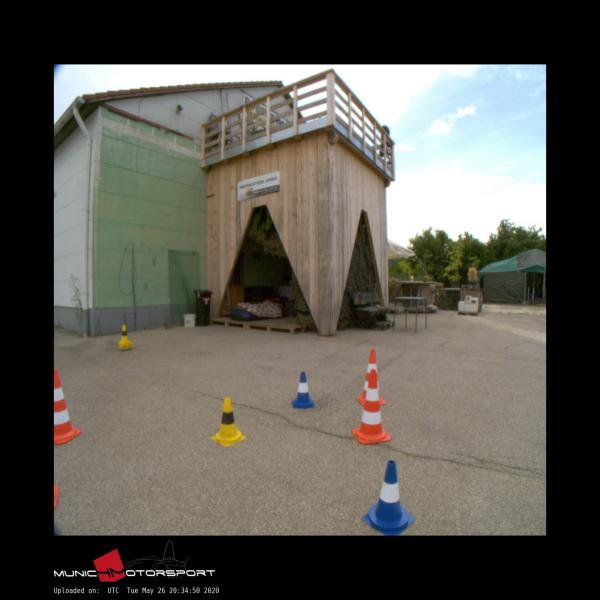blue_cone: (362, 460, 415, 535), (292, 372, 313, 408)
large_orange_cone: (352, 369, 390, 444), (54, 369, 81, 444), (356, 349, 386, 405)
yellow_cone: (211, 397, 245, 445), (118, 324, 130, 342)
